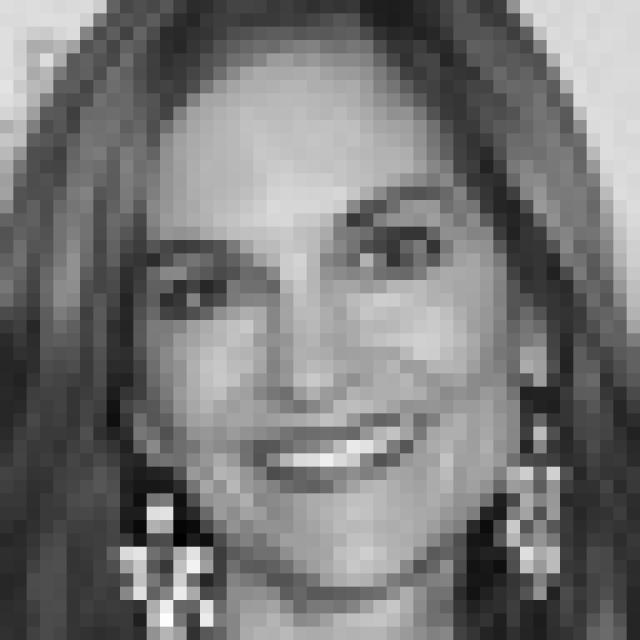happy: (139, 168, 484, 513)
